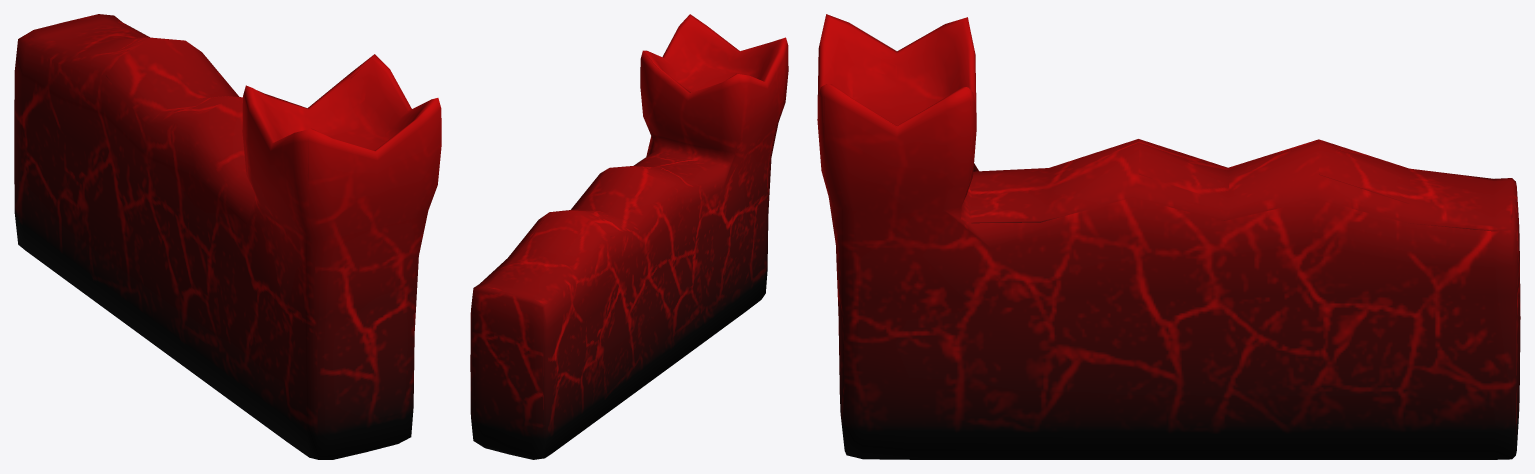
File: HellWall.fbx
The picture shows the model from 3 angles, left to right: view 1: azimuth 30°, elevation 25°; view 2: azimuth 150°, elevation 25°; view 3: azimuth 270°, elevation 25°; orthographic projection. The views are drawn at different scales.
Parts seen in each view (by area): view 1: HellWall; view 2: HellWall; view 3: HellWall.
Part boxes in pixels (<box>): HellWall: <box>14,14,441,459</box>; HellWall: <box>470,14,788,459</box>; HellWall: <box>817,14,1520,459</box>.
Bounding box in the file's own units: 272 × 634 × 1030.
1 material, 1 textured.
